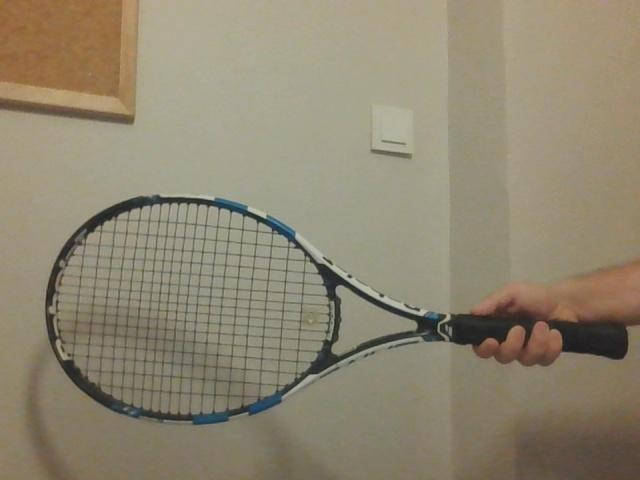Tennis-Racket: (44, 194, 632, 426)
